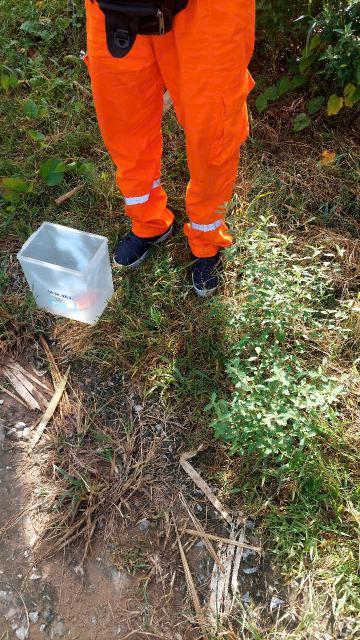shoes: (106, 201, 168, 275), (176, 246, 229, 307)
